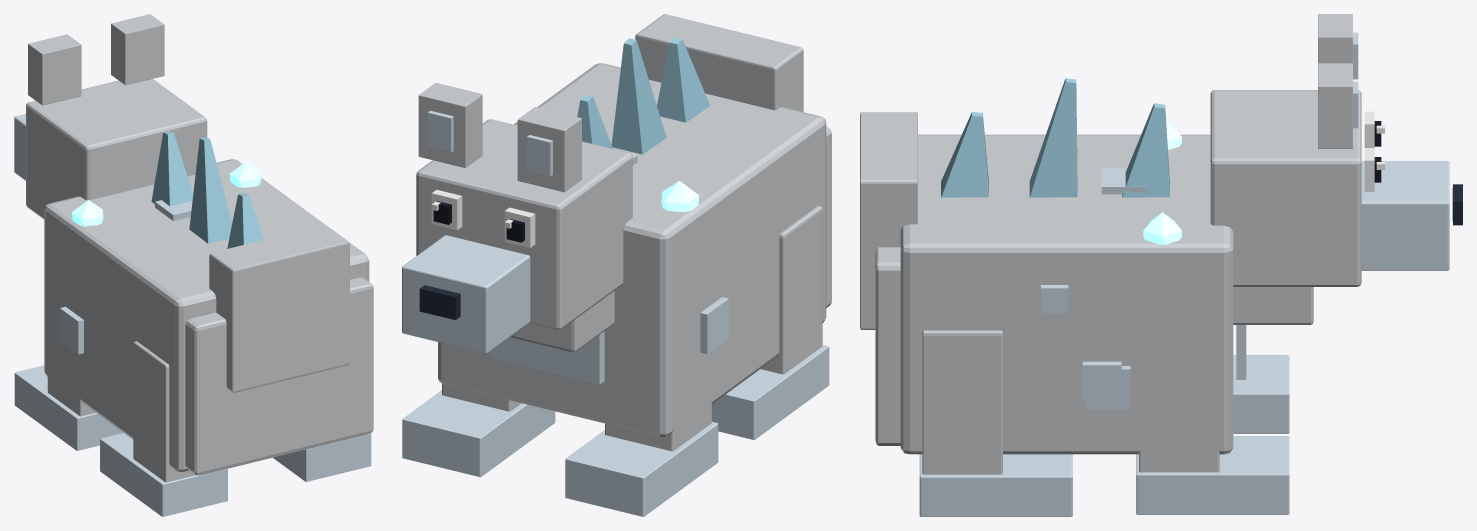
Rendered from polar-bear.glb.
The picture shows the model from 3 angles, left to right: view 1: azimuth 30°, elevation 25°; view 2: azimuth 150°, elevation 25°; view 3: azimuth 270°, elevation 25°; orthographic projection. The views are drawn at different scales.
Parts seen in each view (by area): view 1: body, tail, head, leg.BR, leg.FR, ear.L, ear.R, leg.BL; view 2: body, head, leg.FR, leg.BR, tail, leg.FL, ear.L, ear.R; view 3: body, head, leg.BL, leg.FL, tail, leg.FR, ear.L, ear.R.
Boxes of the visible parts, x1,y1,x2,y2 form: body: (44,131,373,475); tail: (209,225,349,392); head: (14,79,207,219); leg.BR: (100,341,227,516); leg.FR: (14,365,123,450); ear.L: (111,14,164,85); ear.R: (28,34,81,105); leg.BL: (273,433,371,481); body: (438,37,831,437); head: (402,119,632,353); leg.FR: (565,287,718,516); leg.BR: (712,205,829,439); tail: (635,14,803,111); leg.FL: (402,384,555,477); ear.L: (418,82,482,167); ear.R: (517,107,581,192); body: (875,78,1313,454); head: (1210,90,1462,286); leg.BL: (919,330,1072,516); leg.FL: (1136,333,1289,514); tail: (860,112,917,329); leg.FR: (1233,355,1289,433); ear.L: (1318,63,1358,148); ear.R: (1318,14,1358,79).
Bounding box in the file's own units: 0.6586 × 1 × 1.35.
